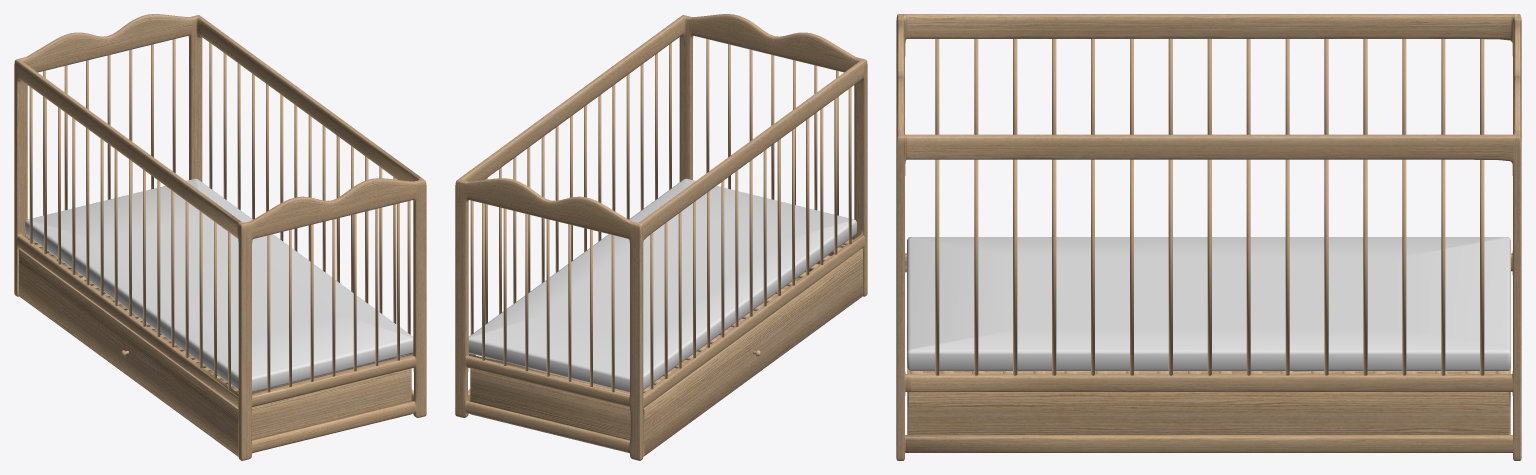
3 views of the same model, side by side, from view 1: azimuth 30°, elevation 25°; view 2: azimuth 150°, elevation 25°; view 3: azimuth 270°, elevation 25° (orthographic). The views are drawn at different scales.
Visible parts, largest first — view 1: Bed, Mattress, Drawer, gridside, gridend, Gridbottom; view 2: Bed, Mattress, Drawer, gridside, gridend, Gridbottom; view 3: Mattress, Bed, Drawer, gridside, Gridbottom.
Boxes of the visible parts, x1,y1,x2,y2 form: Bed: [14, 14, 426, 460]; Mattress: [25, 178, 413, 392]; Drawer: [19, 244, 411, 456]; gridside: [29, 42, 410, 388]; gridend: [43, 39, 399, 392]; Gridbottom: [28, 239, 412, 394]; Bed: [455, 14, 867, 460]; Mattress: [468, 178, 856, 392]; Drawer: [470, 244, 862, 456]; gridside: [470, 43, 851, 389]; gridend: [482, 39, 838, 392]; Gridbottom: [469, 239, 853, 394]; Mattress: [907, 237, 1510, 370]; Bed: [896, 14, 1521, 460]; Drawer: [907, 369, 1510, 434]; gridside: [935, 39, 1484, 375]; Gridbottom: [910, 371, 1509, 373].
Bounding box in the file's own units: 0.6803 × 0.8436 × 1.4.
2 materials, 1 textured.
